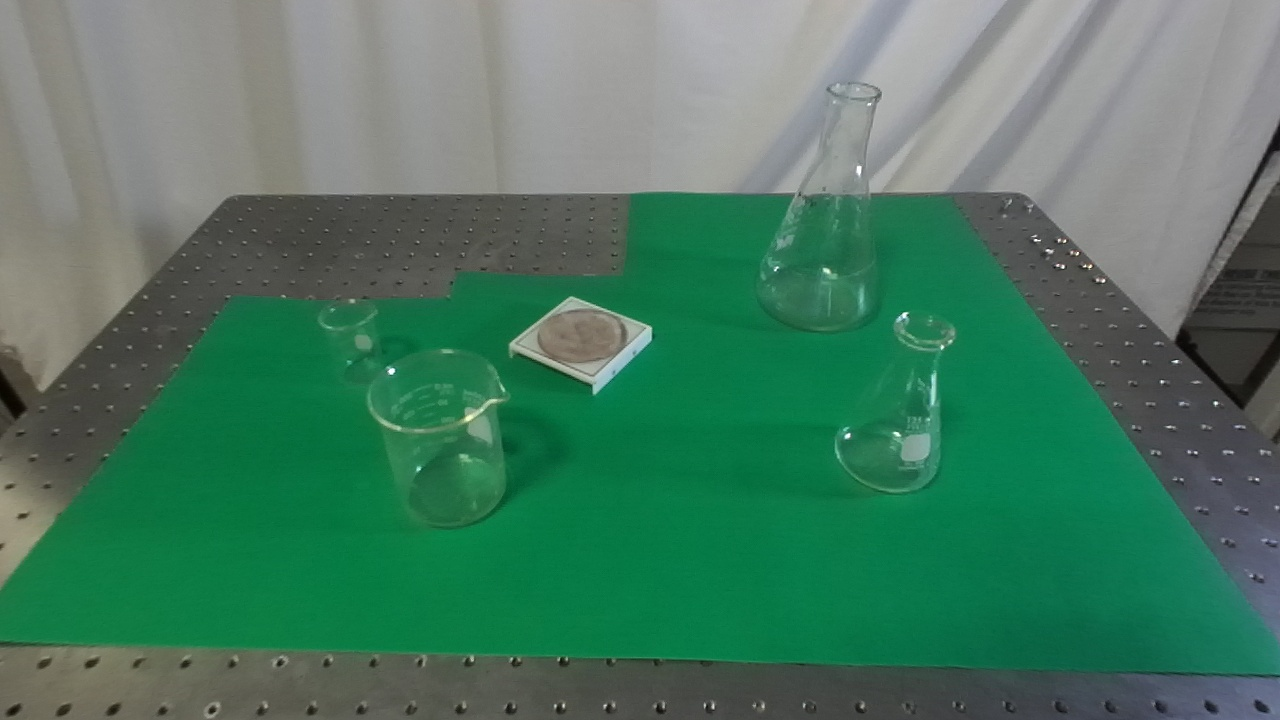glass: (754, 79, 891, 341), (359, 344, 514, 533), (831, 308, 958, 502), (314, 295, 386, 386)
plate: (503, 289, 656, 397)
